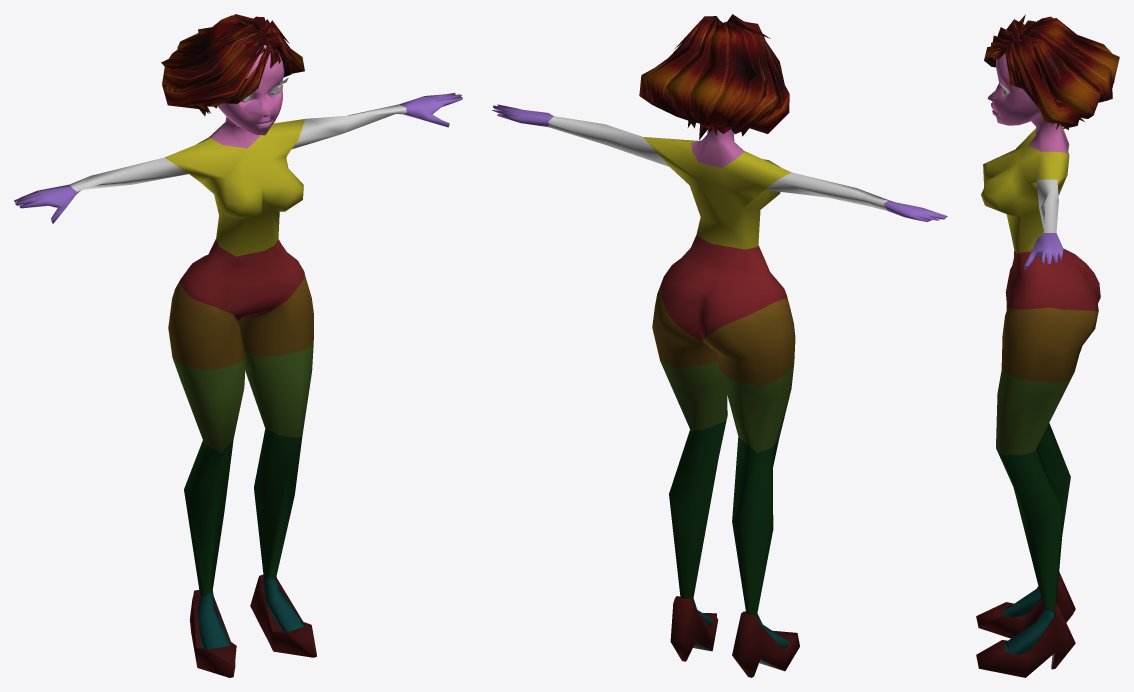
Rendered from woman_low_poly_island 1.fbx.
The picture shows the model from 3 angles, left to right: view 1: azimuth 30°, elevation 25°; view 2: azimuth 150°, elevation 25°; view 3: azimuth 270°, elevation 25°; orthographic projection.
Visible parts, largest first — view 1: Hair.002; view 2: Hair.002; view 3: Hair.002.
Boxes of the visible parts, x1,y1,x2,y2 form: Hair.002: (14,14,462,677); Hair.002: (492,14,947,677); Hair.002: (976,14,1119,677).
Size of the model in its own units: 11818 by 15995 by 3292.
